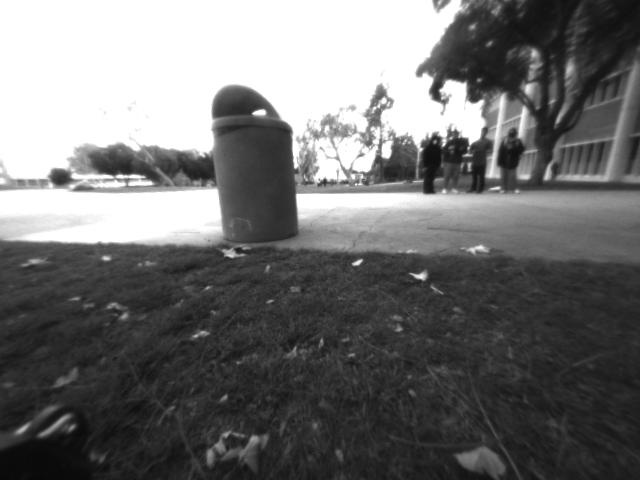trashcan: (208, 82, 305, 246)
